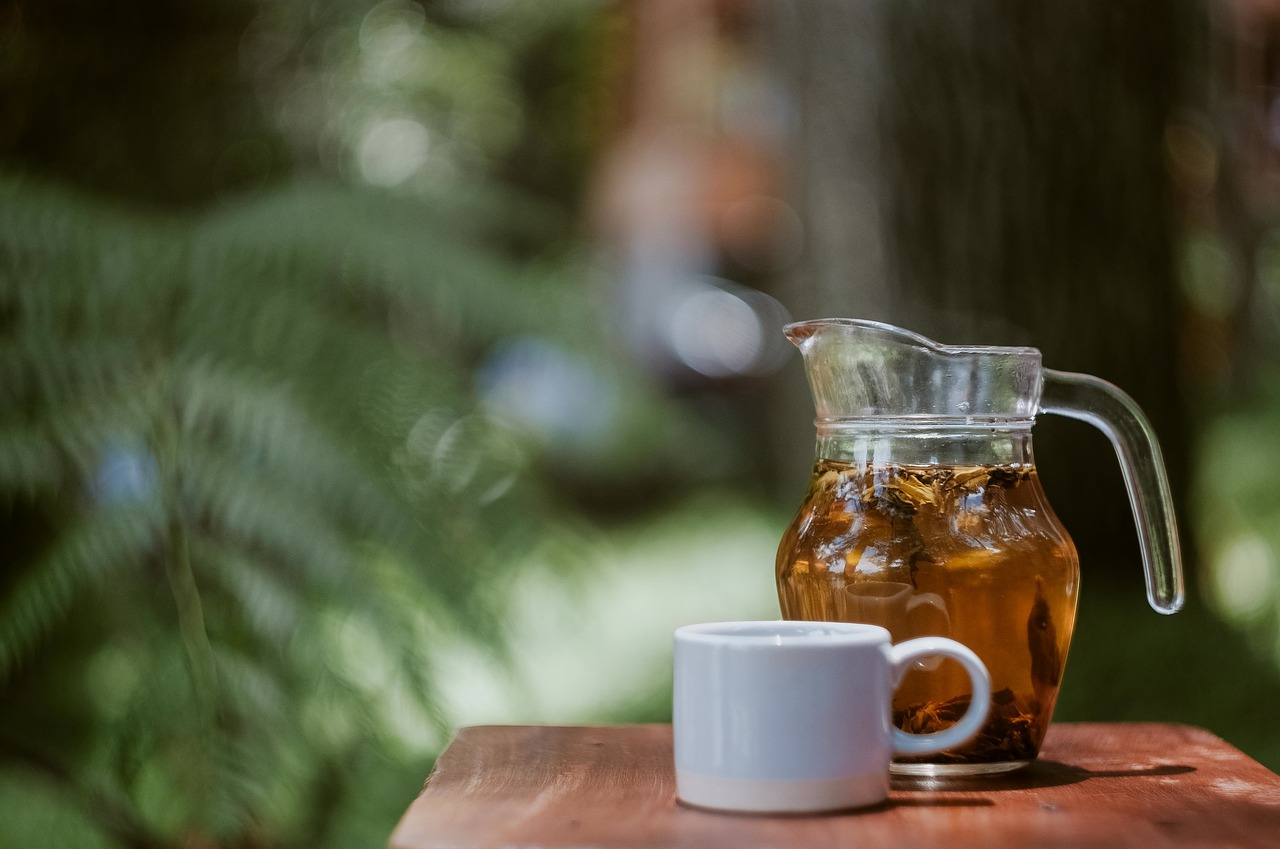mug: (624, 594, 993, 823)
